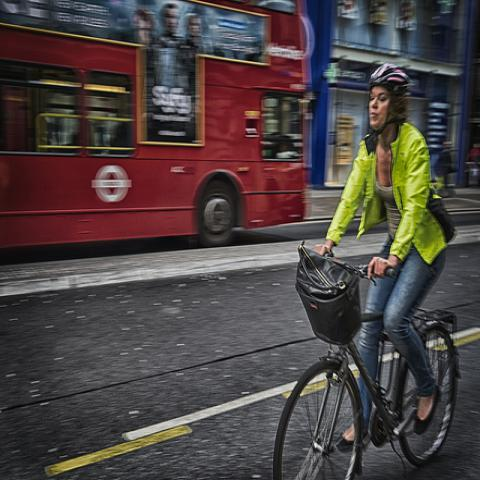bus: (1, 2, 308, 249)
